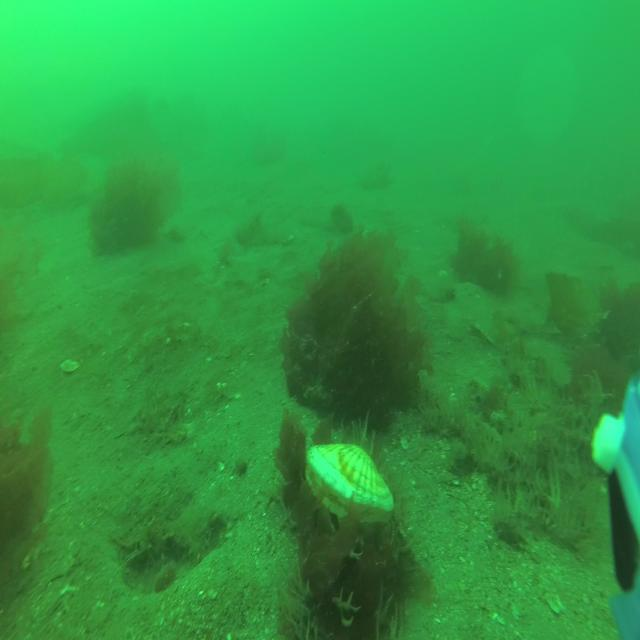scallop: (306, 443, 394, 530), (61, 357, 80, 375)
